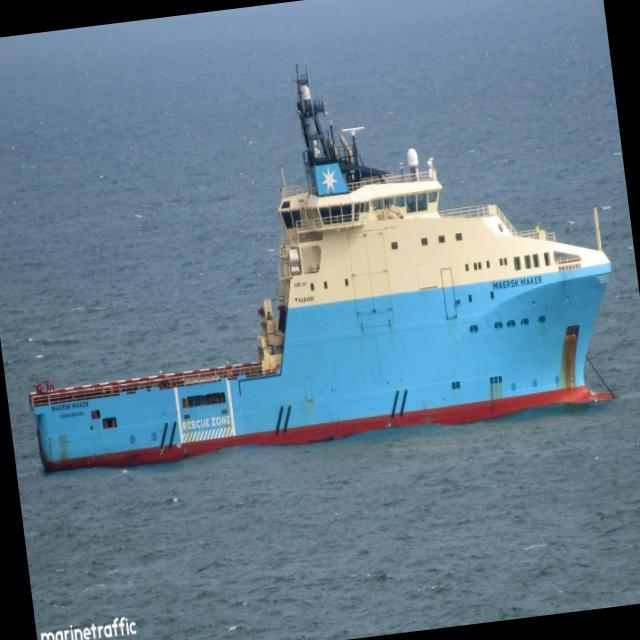Offshore: (28, 67, 613, 471)
